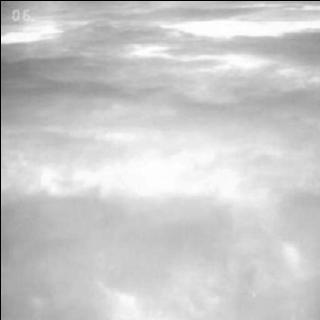Stratocumulus: (0, 29, 320, 320)
